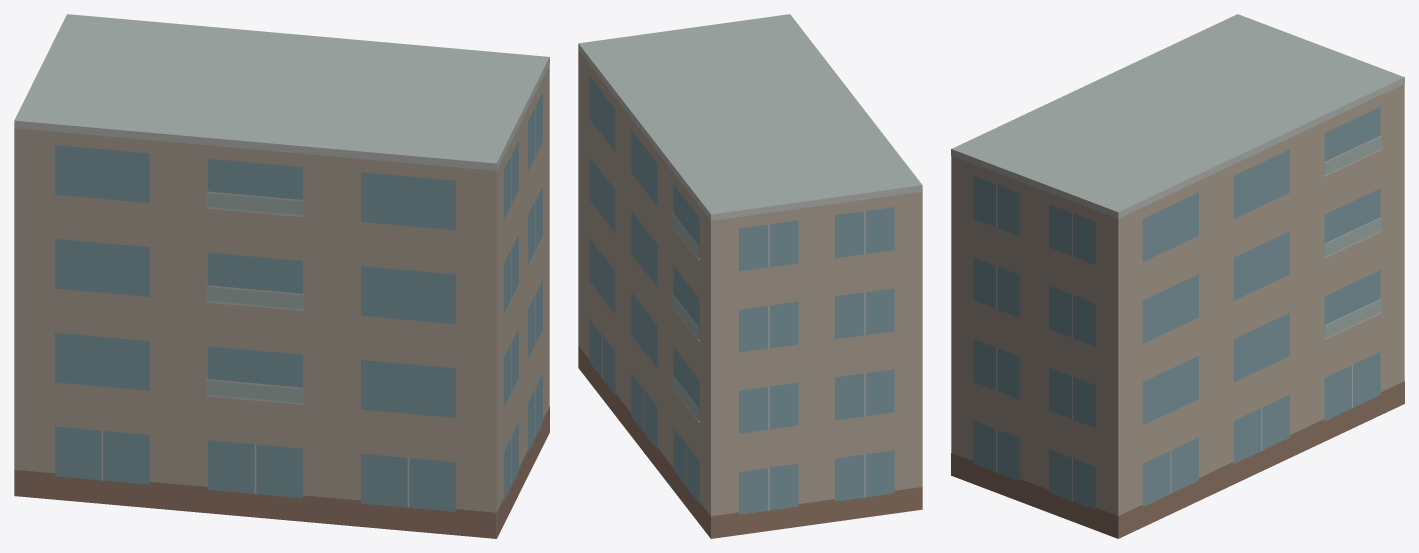
File: residential-ea049d90-0de5-4c9d-b58c-1785dc638191.glb
The picture shows the model from 3 angles, left to right: view 1: azimuth 30°, elevation 25°; view 2: azimuth 150°, elevation 25°; view 3: azimuth 270°, elevation 25°; orthographic projection. The views are drawn at different scales.
Parts seen in each view (by area): view 1: residential-ea049d90-0de5-4c9d-b58c-1785dc638191.tmp; view 2: residential-ea049d90-0de5-4c9d-b58c-1785dc638191.tmp; view 3: residential-ea049d90-0de5-4c9d-b58c-1785dc638191.tmp.
Boxes of the visible parts, x1,y1,x2,y2 form: residential-ea049d90-0de5-4c9d-b58c-1785dc638191.tmp: (14, 14, 549, 538); residential-ea049d90-0de5-4c9d-b58c-1785dc638191.tmp: (578, 14, 922, 538); residential-ea049d90-0de5-4c9d-b58c-1785dc638191.tmp: (951, 14, 1404, 538).
Size of the model in its own units: 15.89 by 12.2 by 15.36.
